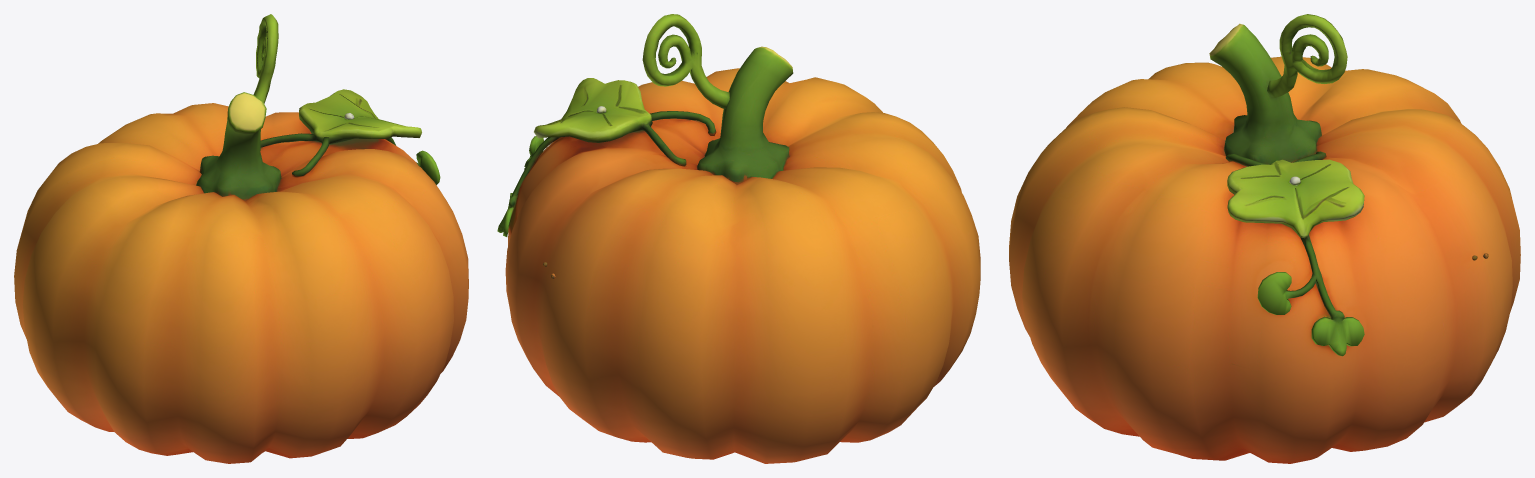
The picture shows the model from 3 angles, left to right: view 1: azimuth 30°, elevation 25°; view 2: azimuth 150°, elevation 25°; view 3: azimuth 270°, elevation 25°; orthographic projection. The views are drawn at different scales.
Parts seen in each view (by area): view 1: tripo_node_726d3c39-baf6-47d5-b7f1-1868f9b0d9cb; view 2: tripo_node_726d3c39-baf6-47d5-b7f1-1868f9b0d9cb; view 3: tripo_node_726d3c39-baf6-47d5-b7f1-1868f9b0d9cb.
Boxes of the visible parts, x1,y1,x2,y2 form: tripo_node_726d3c39-baf6-47d5-b7f1-1868f9b0d9cb: (14,14,468,463); tripo_node_726d3c39-baf6-47d5-b7f1-1868f9b0d9cb: (497,14,980,463); tripo_node_726d3c39-baf6-47d5-b7f1-1868f9b0d9cb: (1009,14,1520,463).
Bounding box in the file's own units: 0.998 × 0.8926 × 0.998.
Materials: 1 (1 with a texture image).
